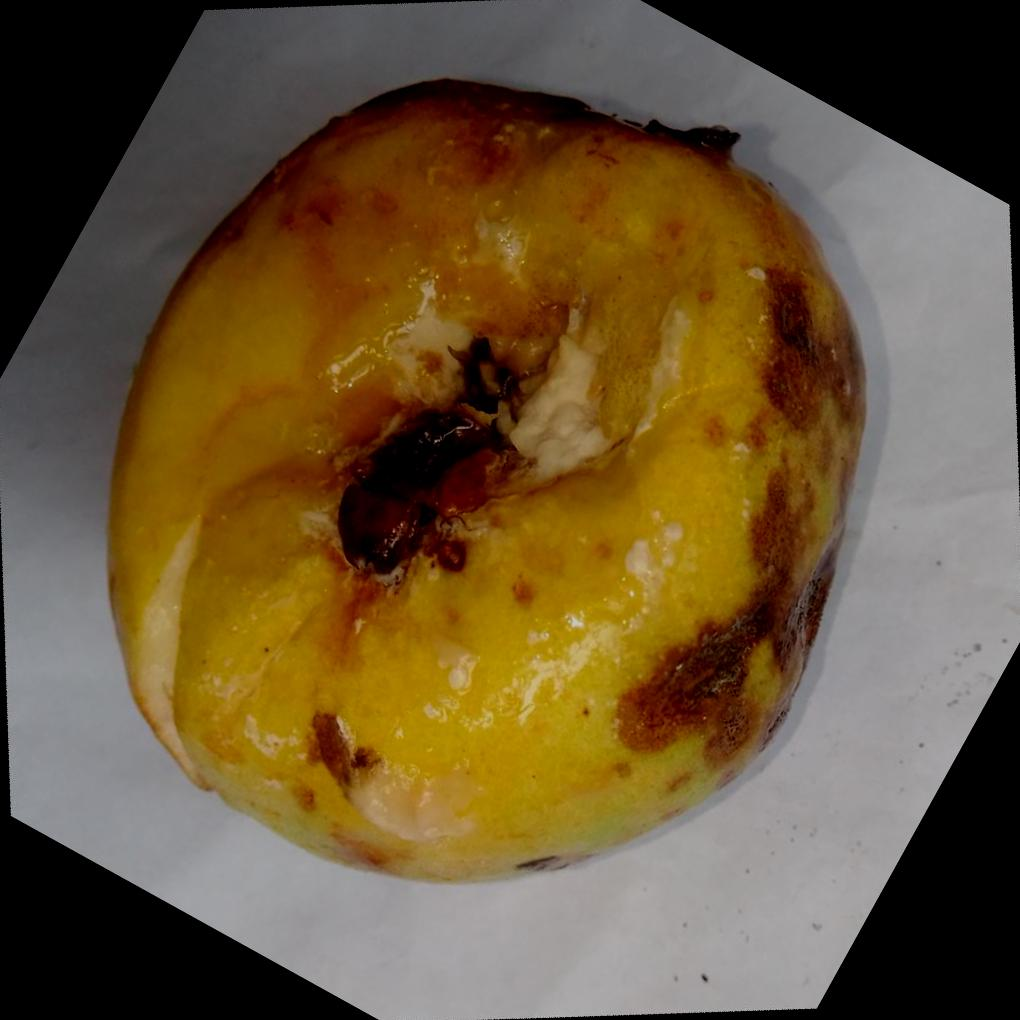FreshOrange: (108, 78, 868, 885)
